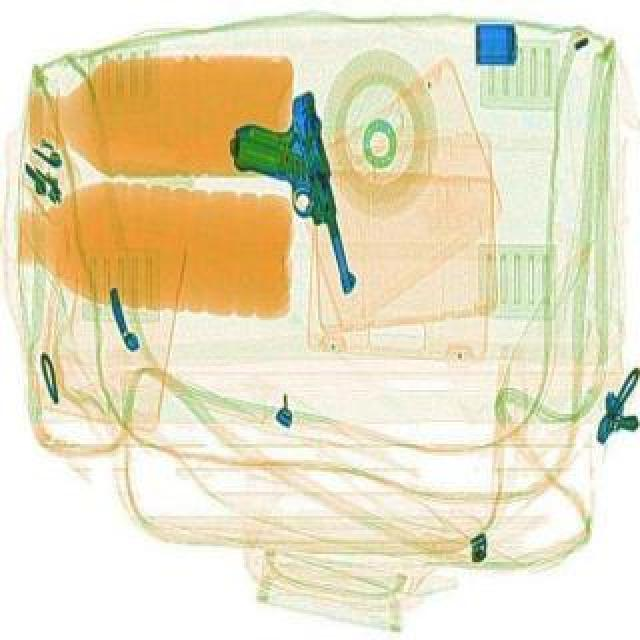gun: (216, 86, 364, 306)
